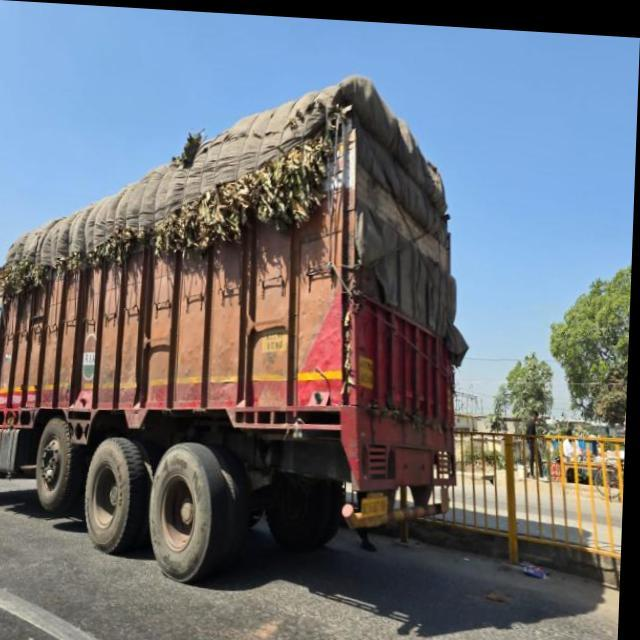covered: (0, 69, 461, 598)
